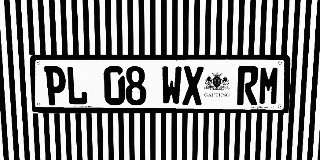0: (103, 66, 125, 105)
8: (125, 66, 146, 105)
L: (66, 66, 88, 105)
M: (258, 66, 280, 105)
P: (44, 66, 66, 105)
R: (237, 66, 259, 105)
W: (161, 66, 182, 105)
X: (182, 66, 204, 105)
